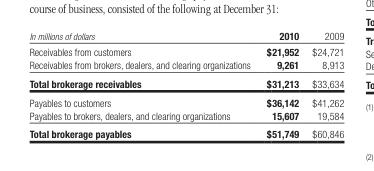table: (28, 28, 343, 139)
table column: (28, 28, 257, 139), (257, 28, 304, 139), (304, 28, 343, 139)
table column header: (28, 28, 343, 42)
table row: (28, 73, 343, 92), (28, 57, 343, 73), (28, 92, 343, 108), (28, 108, 343, 124), (28, 42, 343, 57), (28, 124, 343, 139), (28, 28, 343, 42)
